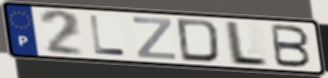2: (38, 8, 87, 57)
B: (269, 23, 313, 69)
D: (175, 17, 222, 65)
L: (225, 20, 270, 68), (88, 13, 129, 57)
Z: (131, 16, 178, 62)
